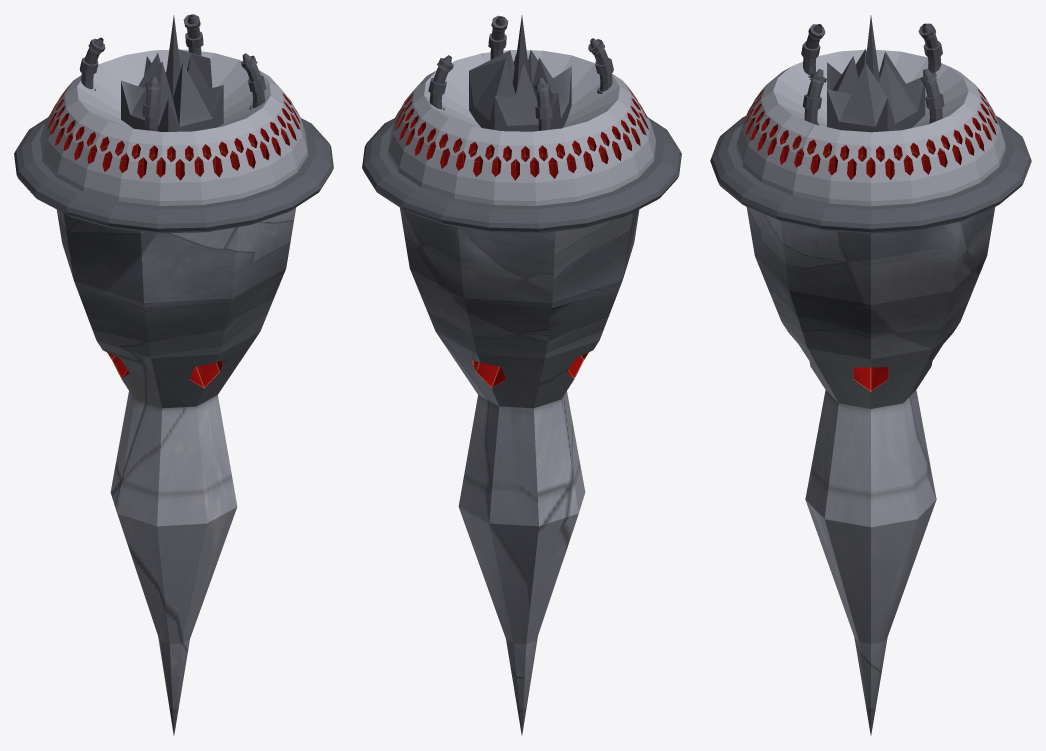
File: boss_model.fbx
The picture shows the model from 3 angles, left to right: view 1: azimuth 30°, elevation 25°; view 2: azimuth 150°, elevation 25°; view 3: azimuth 270°, elevation 25°; orthographic projection.
Visible parts, largest first — view 1: polySurface3248; view 2: polySurface3248; view 3: polySurface3248.
Part boxes in pixels (bbox=[...]): polySurface3248: bbox=[14, 14, 333, 735]; polySurface3248: bbox=[362, 15, 681, 735]; polySurface3248: bbox=[710, 15, 1031, 735].
Bounding box in the file's own units: 5.93 × 14.7 × 5.93.
Materials: 1 (1 with a texture image).
